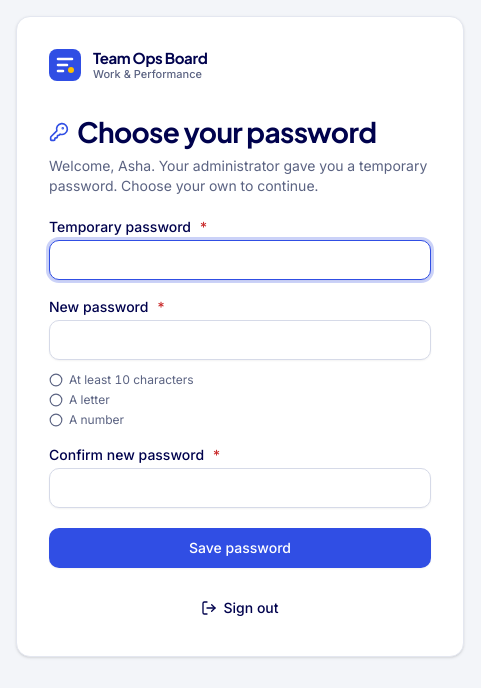
Test: ChangePasswordPage › shows a wrong temporary password next to its field
Expected: the heading "Choose your password" is shown, [77, 114, 376, 150]
Type "guess" into the password field labelled "Temporary password *".
click(240, 260); type("guess")  # box [49, 240, 431, 280]
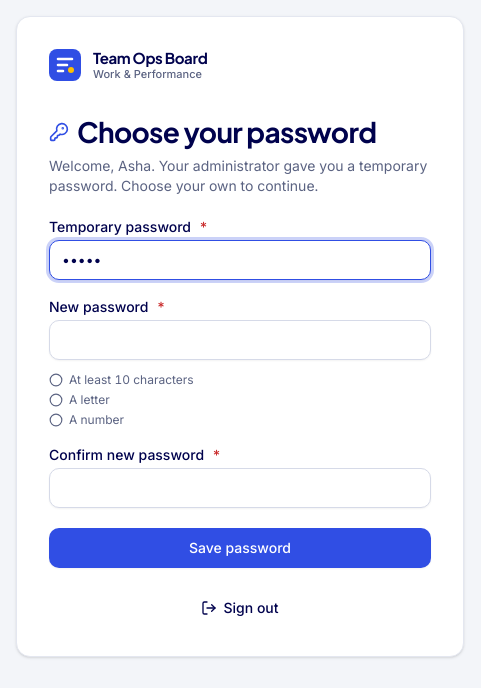
Type "MyOwnPass2026" into the password field labelled "New password *".
click(240, 340); type("MyOwnPass2026")  # box [49, 320, 431, 360]
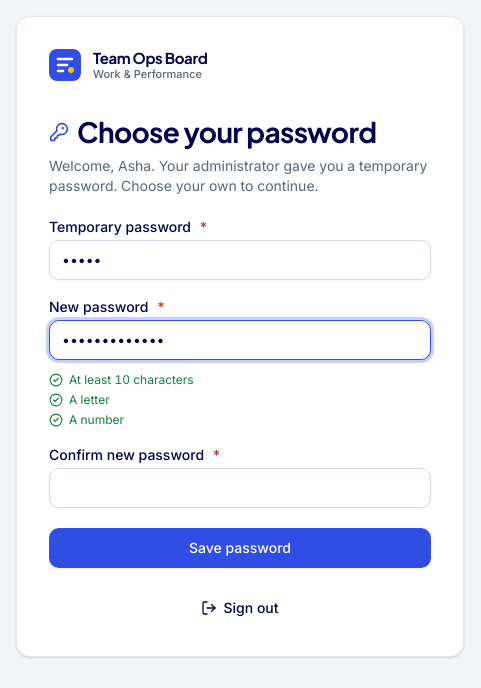
Type "MyOwnPass2026" into the password field labelled "Confirm new password *".
click(240, 488); type("MyOwnPass2026")  # box [49, 468, 431, 508]
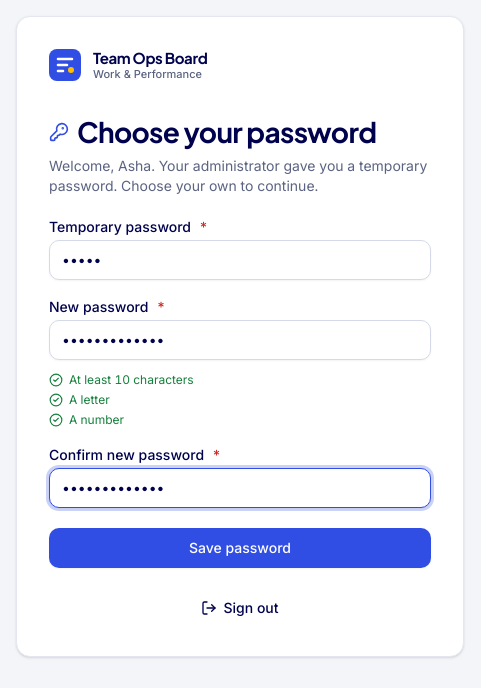
Click the button "Save password".
click(240, 548)  # box [49, 528, 431, 568]
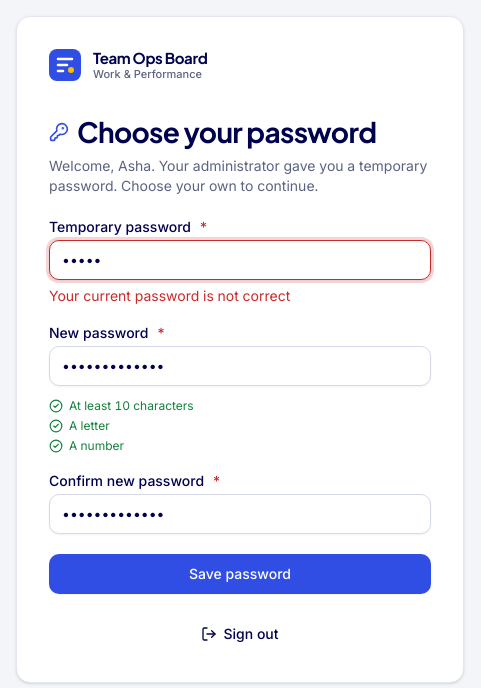
Result: the text "Your current password is not correct" is shown at [49, 286, 290, 304]
